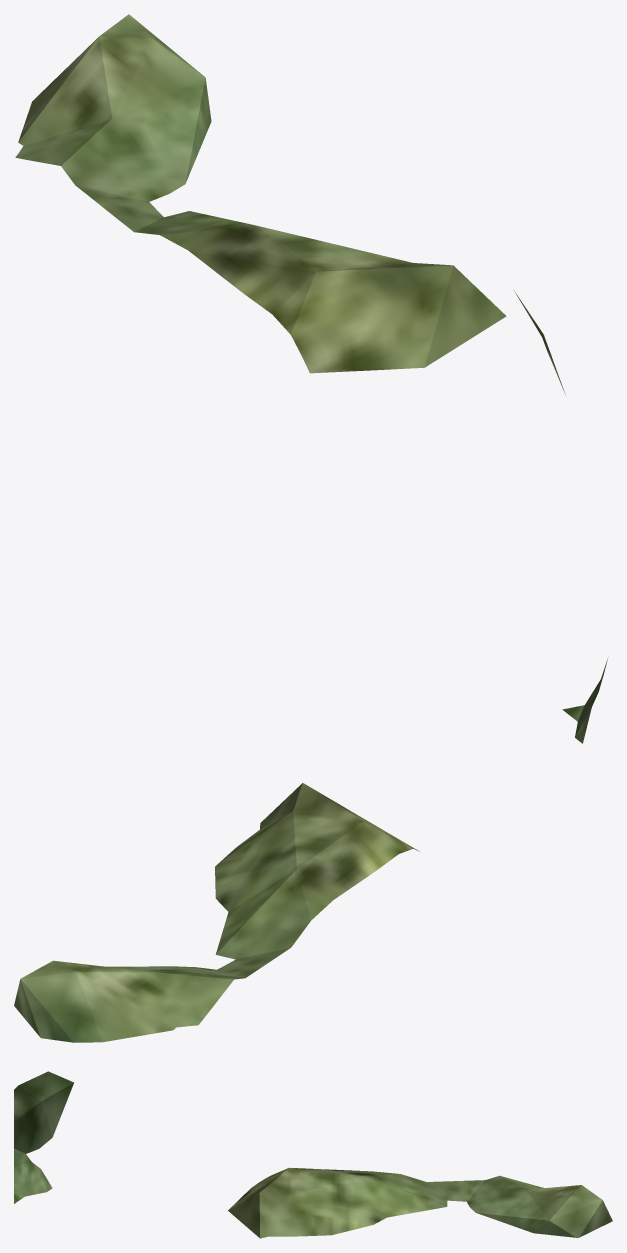
3 renders of one model, top to bottom at view 1: azimuth 30°, elevation 25°; view 2: azimuth 150°, elevation 25°; view 3: azimuth 270°, elevation 25°, orthographic. The views are drawn at different scales.
Bounding box in the file's own units: 0.2925 × 0.3169 × 1.47.
1 material, 1 textured.
